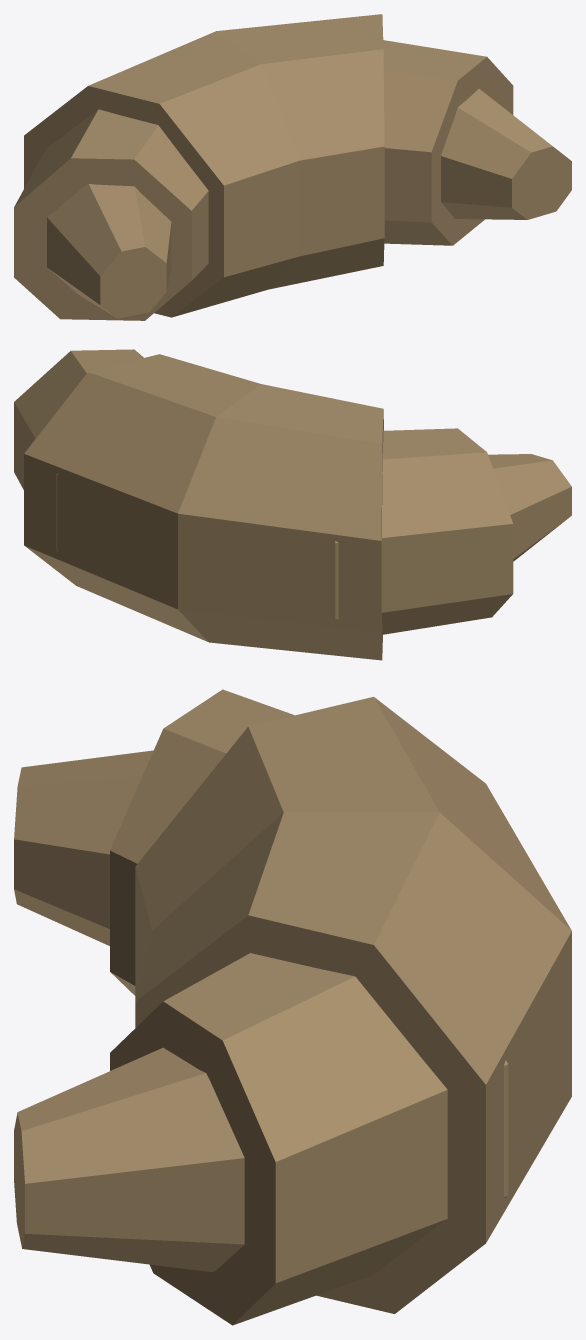
The model's file is Croissant.obj.
3 views of the same model, one above another, from view 1: azimuth 30°, elevation 25°; view 2: azimuth 150°, elevation 25°; view 3: azimuth 270°, elevation 25° (orthographic). The views are drawn at different scales.
Parts seen in each view (by area): view 1: mesh_0; view 2: mesh_0; view 3: mesh_0.
Part boxes in pixels (<box>): mesh_0: <box>14,14,571,320</box>; mesh_0: <box>14,349,571,660</box>; mesh_0: <box>14,689,571,1325</box>.
Size of the model in its own units: 1.3 by 0.5498 by 0.7305.
